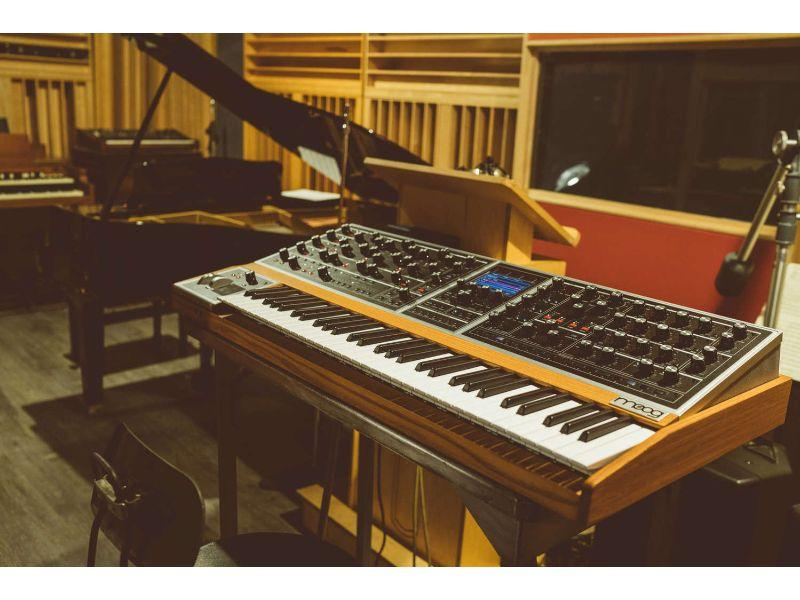synthesizer: (142, 203, 793, 527)
